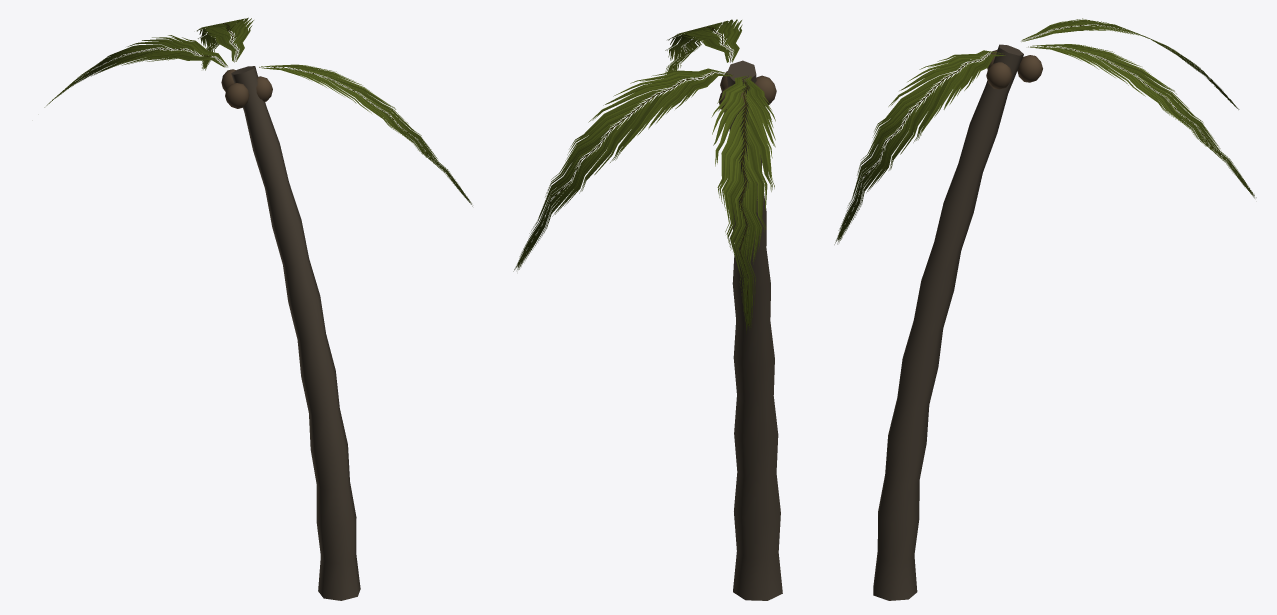
Rendered from palm_2_burnt2.glb.
3 renders of one model, left to right at view 1: azimuth 30°, elevation 25°; view 2: azimuth 150°, elevation 25°; view 3: azimuth 270°, elevation 25°, orthographic. The views are drawn at different scales.
Visible parts, largest first — view 1: palm_2_burnt2; view 2: palm_2_burnt2; view 3: palm_2_burnt2.
Part boxes in pixels (x1=…): palm_2_burnt2: x1=44, y1=17, x2=472, y2=600; palm_2_burnt2: x1=513, y1=19, x2=782, y2=600; palm_2_burnt2: x1=834, y1=18, x2=1256, y2=600.
Bounding box in the file's own units: 3.95 × 6.9 × 5.07.
Materials: 3 (1 with a texture image).
